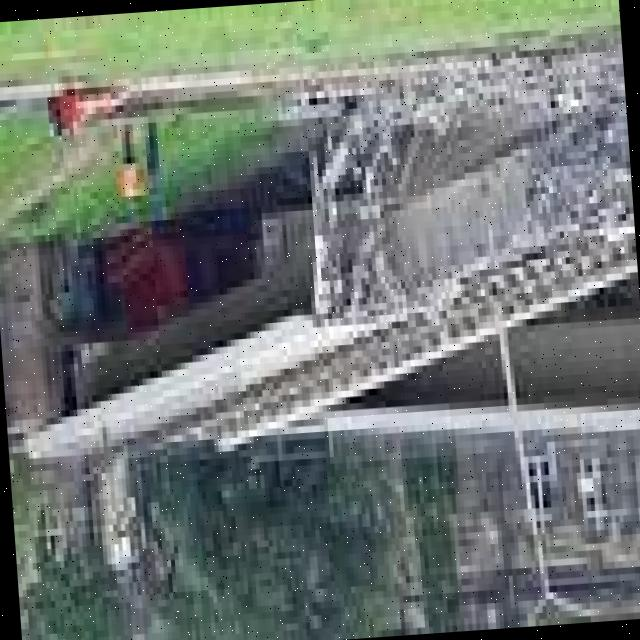bridge collapse: (124, 0, 640, 599)
